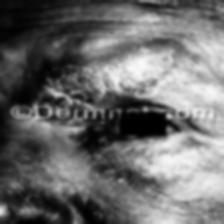Potentially Malignant Skin Tumors: (42, 55, 184, 104)
